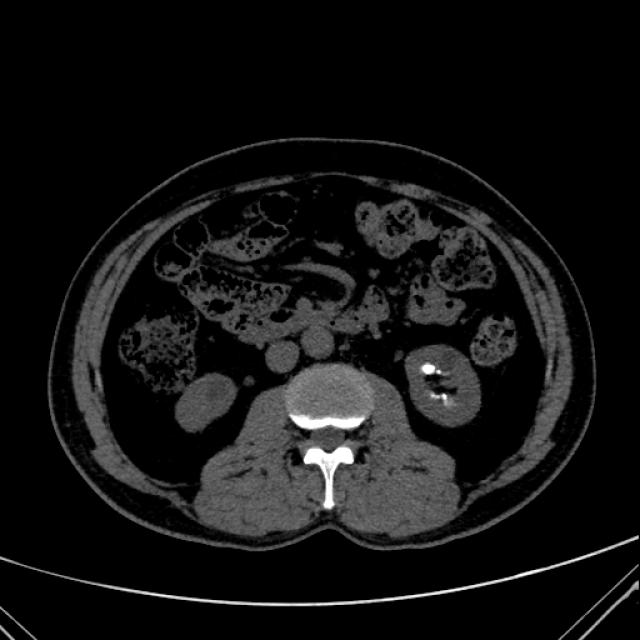kidneystone: (420, 364, 434, 375)
